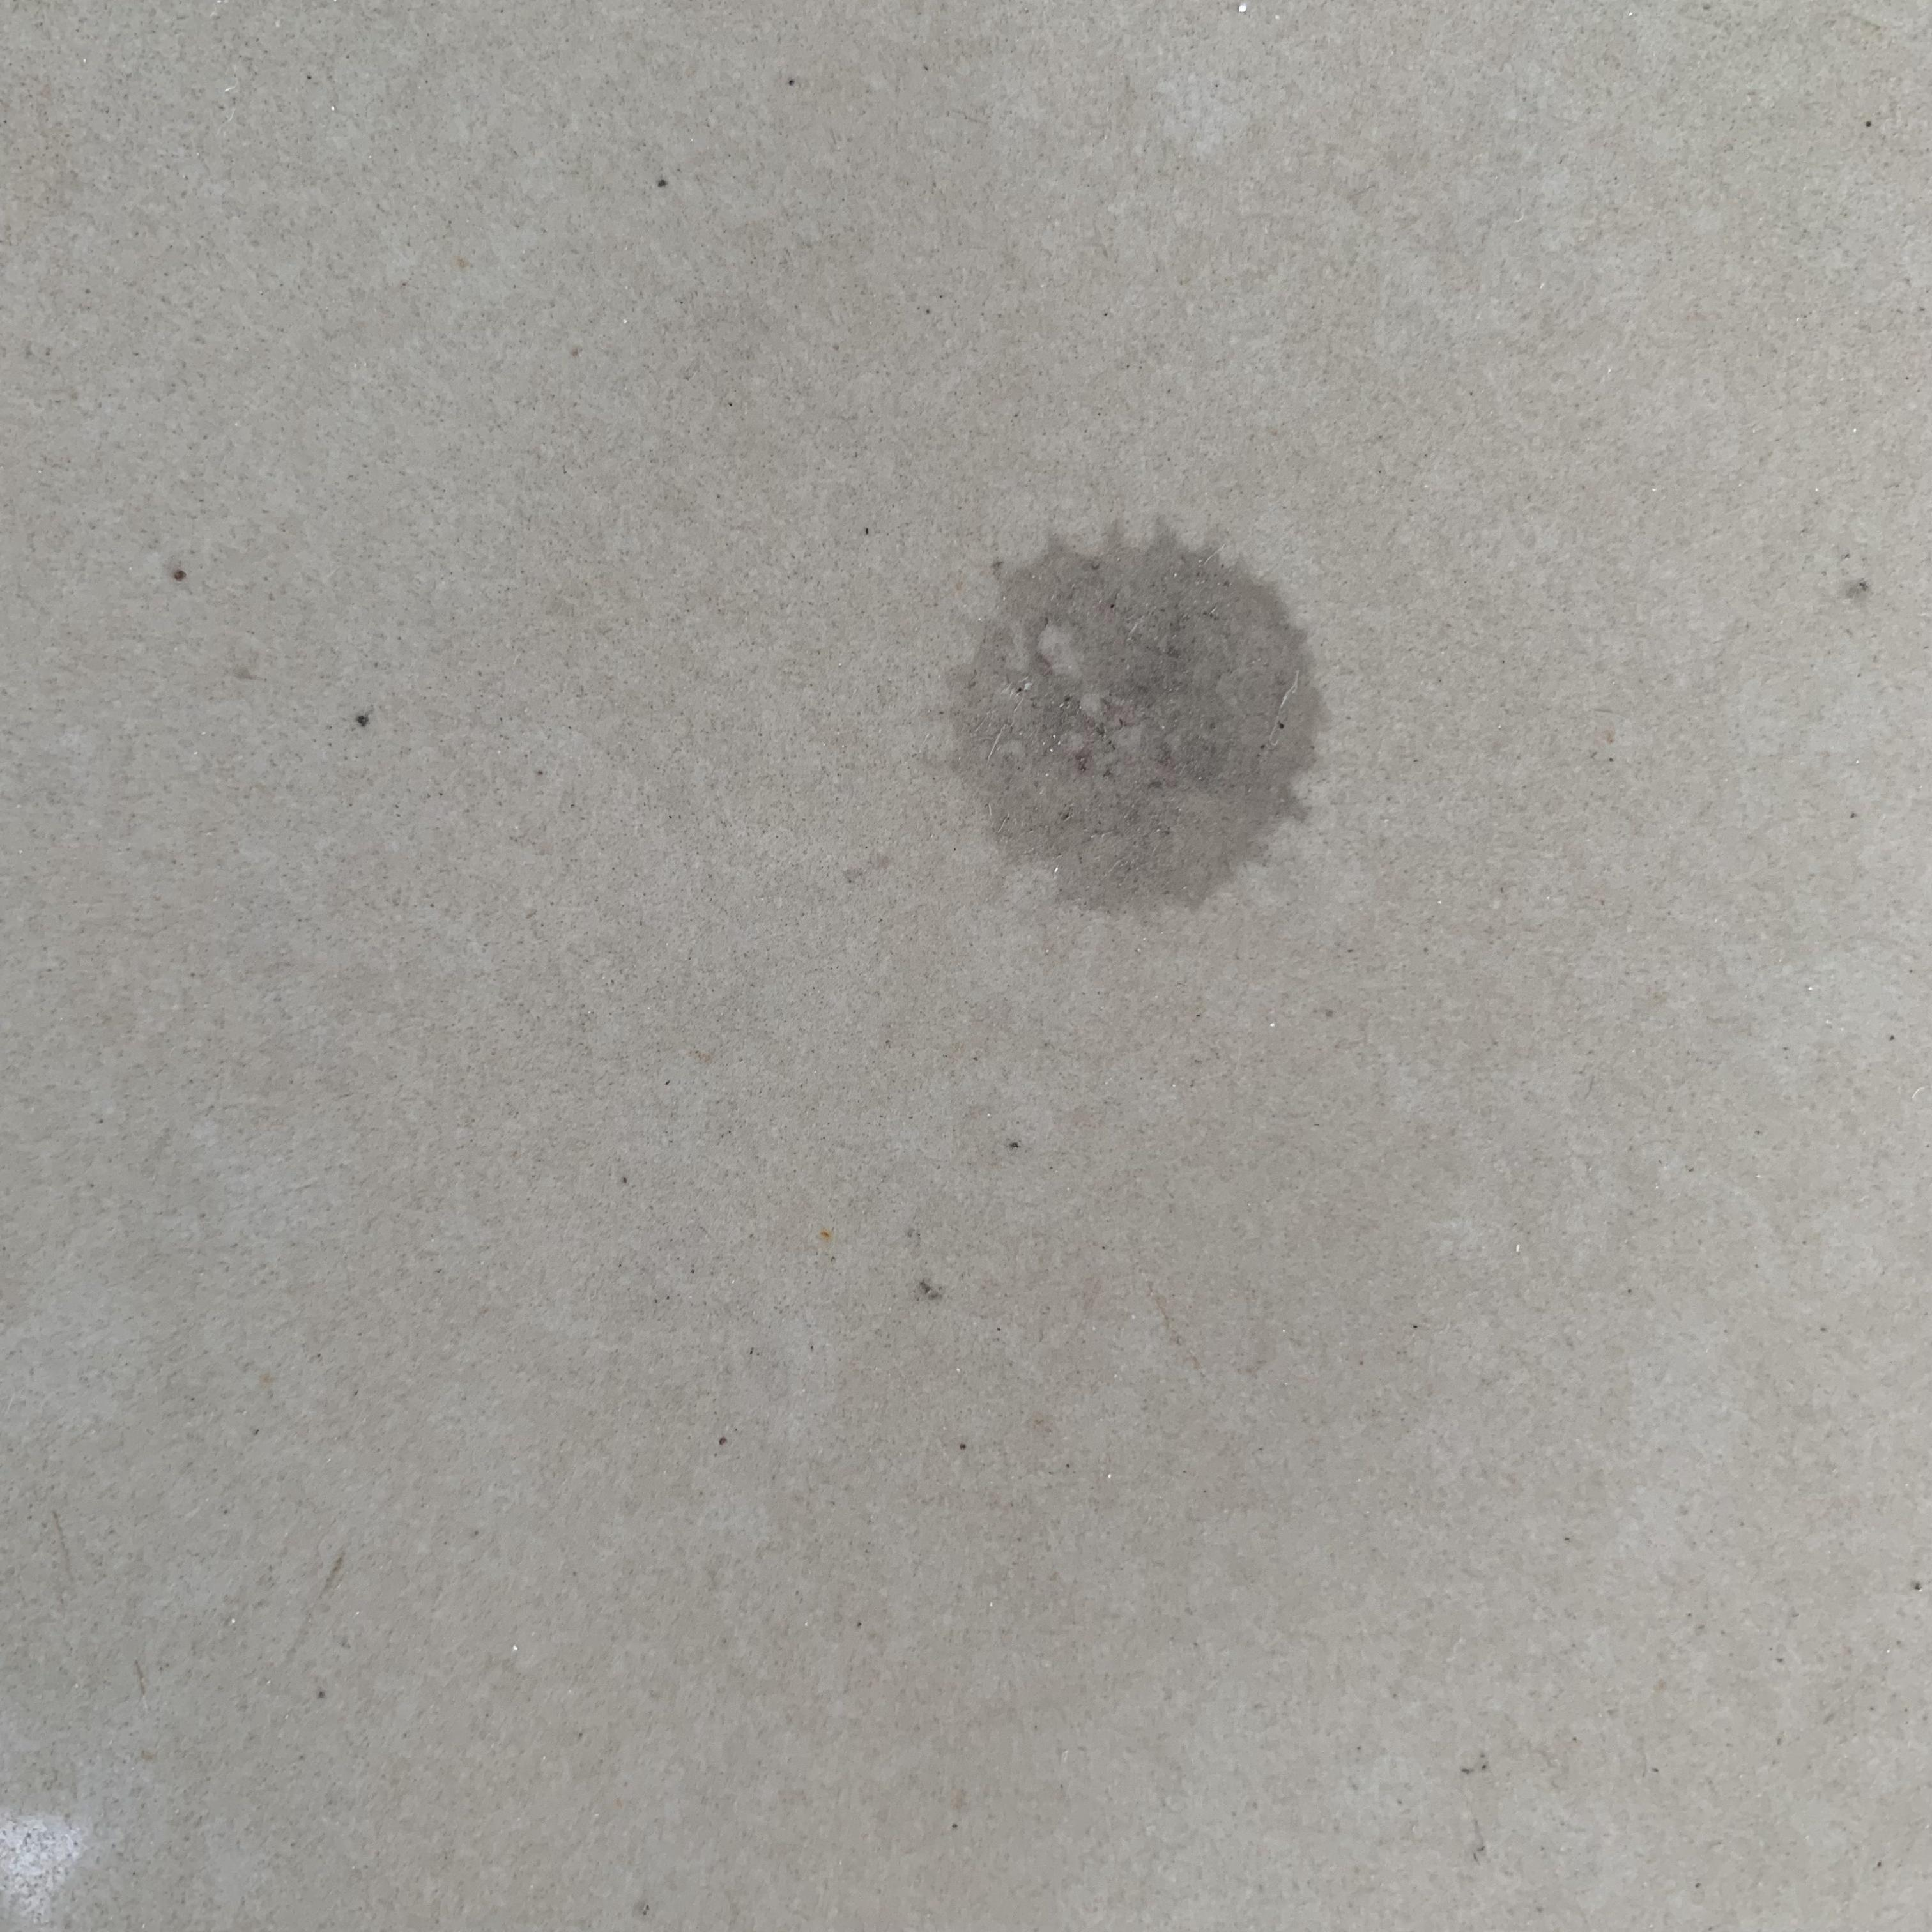grey spot: (918, 522, 1330, 915)
